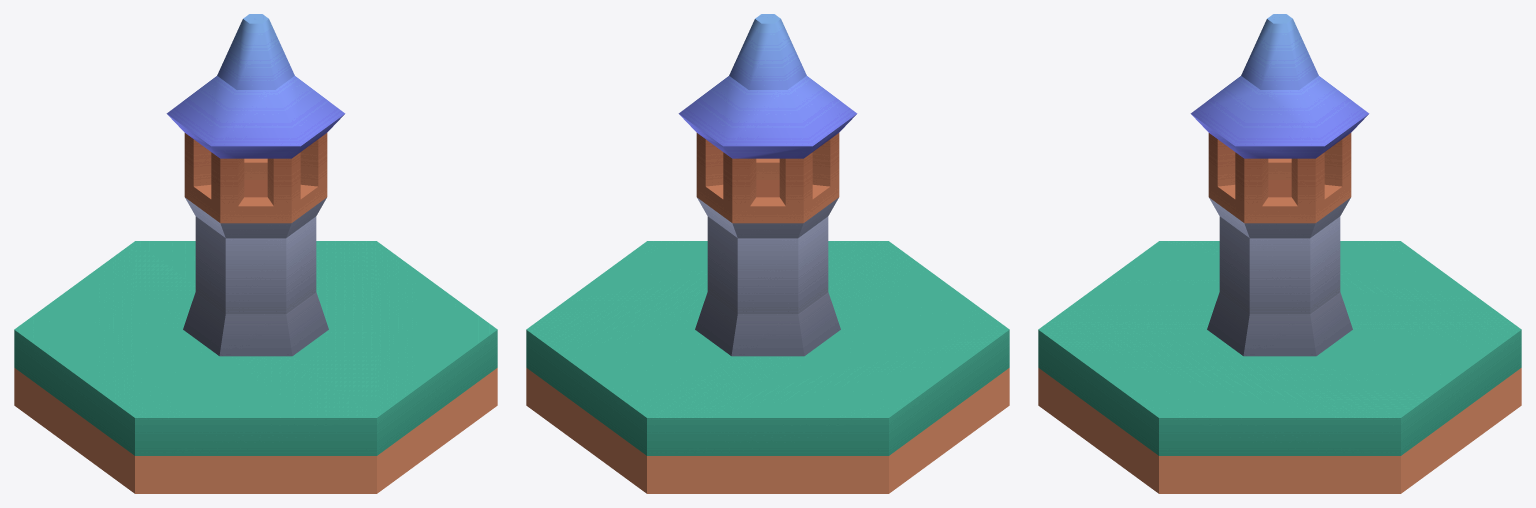
Rendered from grass-tower.glb.
3 views of the same model, side by side, from view 1: azimuth 30°, elevation 25°; view 2: azimuth 150°, elevation 25°; view 3: azimuth 270°, elevation 25° (orthographic).
Visible parts, largest first — view 1: grass, unit-tower; view 2: grass, unit-tower; view 3: grass, unit-tower.
Part boxes in pixels (<box>): grass: <box>14,241,497,493</box>; unit-tower: <box>166,14,345,356</box>; grass: <box>526,241,1009,493</box>; unit-tower: <box>678,14,857,356</box>; grass: <box>1038,241,1521,493</box>; unit-tower: <box>1190,14,1369,356</box>.
Bounding box in the file's own units: 1 × 1.02 × 1.15.
Materials: 1 (1 with a texture image).
